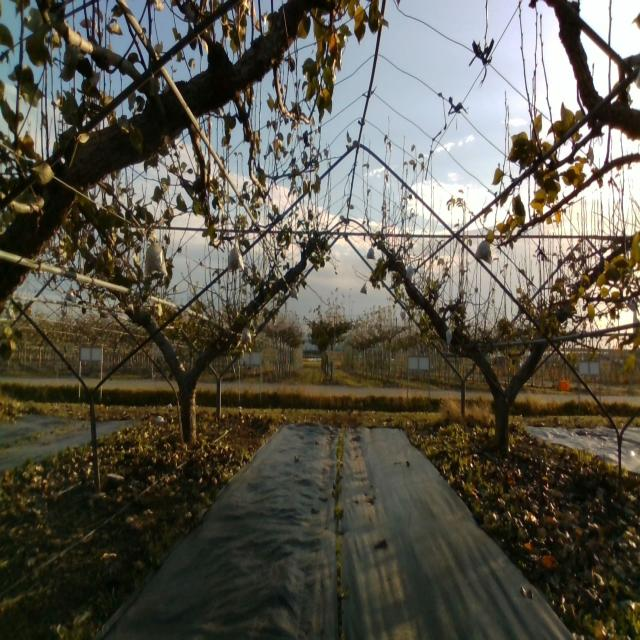pearbags: (144, 241, 167, 278), (476, 238, 492, 261), (228, 243, 242, 269)
